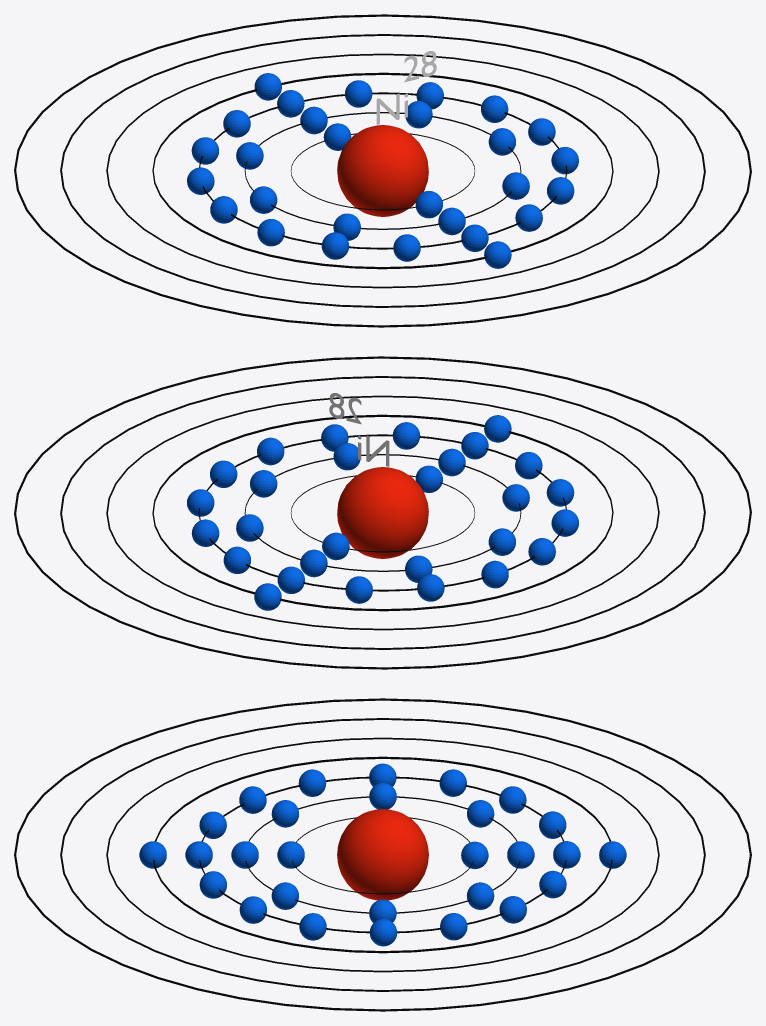
3 renders of one model, top to bottom at view 1: azimuth 30°, elevation 25°; view 2: azimuth 150°, elevation 25°; view 3: azimuth 270°, elevation 25°, orthographic.
Parts seen in each view (by area): view 1: Ni3, Proton, Ni2, n7, n6, n5, n4, Ni4, Ni1, n3, n2; view 2: Ni3, Proton, Ni2, n7, n6, n5, n4, Ni4, Ni1, n3, n2; view 3: Ni3, Proton, Ni2, n7, n6, n5, n4, Ni1, Ni4, n3, n2, n1.
Boxes of the visible parts, x1,y1,x2,y2 form: Ni3: (187, 80, 578, 261); Proton: (337, 125, 428, 216); Ni2: (236, 101, 529, 240); n7: (14, 14, 751, 327); n6: (60, 34, 705, 307); n5: (106, 53, 659, 288); n4: (152, 72, 613, 269); Ni4: (254, 73, 511, 268); Ni1: (323, 123, 442, 218); n3: (199, 92, 567, 249); n2: (244, 112, 521, 229); Ni3: (187, 422, 578, 603); Proton: (337, 467, 428, 558); Ni2: (236, 443, 529, 582); n7: (14, 356, 751, 669); n6: (60, 376, 705, 649); n5: (106, 395, 659, 630); n4: (152, 414, 613, 611); Ni4: (254, 415, 511, 610); Ni1: (322, 465, 442, 560); n3: (198, 434, 566, 591); n2: (244, 454, 521, 571); Ni3: (185, 763, 580, 946); Proton: (337, 809, 428, 900); Ni2: (231, 783, 534, 922); n7: (14, 698, 751, 1011); n6: (60, 718, 705, 991); n5: (106, 737, 659, 972); n4: (153, 756, 612, 953); Ni1: (277, 841, 488, 869); Ni4: (139, 841, 626, 868); n3: (199, 776, 566, 933); n2: (245, 796, 520, 913); n1: (292, 817, 473, 894).
Bounding box in the file's own units: 802 × 180 × 802.
